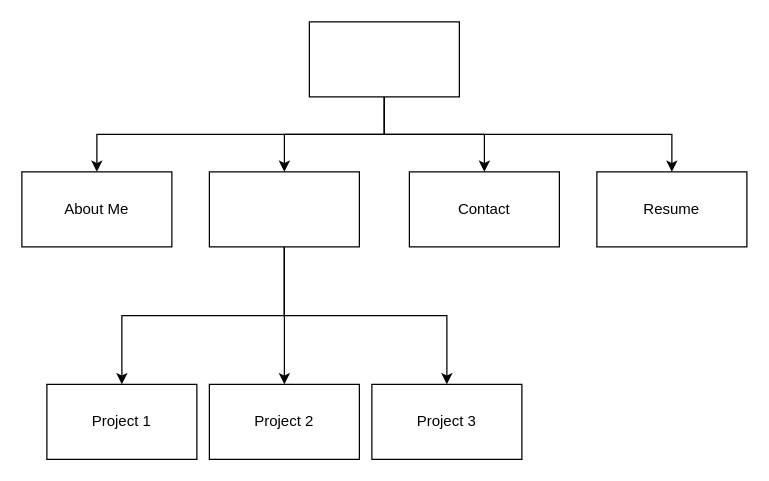
The diagram is 769 pixels wide and 481 high, and some of its shapes have lost their labels. The centre of each missing label's shape, as x and y in pixels:
"Home" goes at (x=383, y=59).
"Projects" goes at (x=283, y=209).
